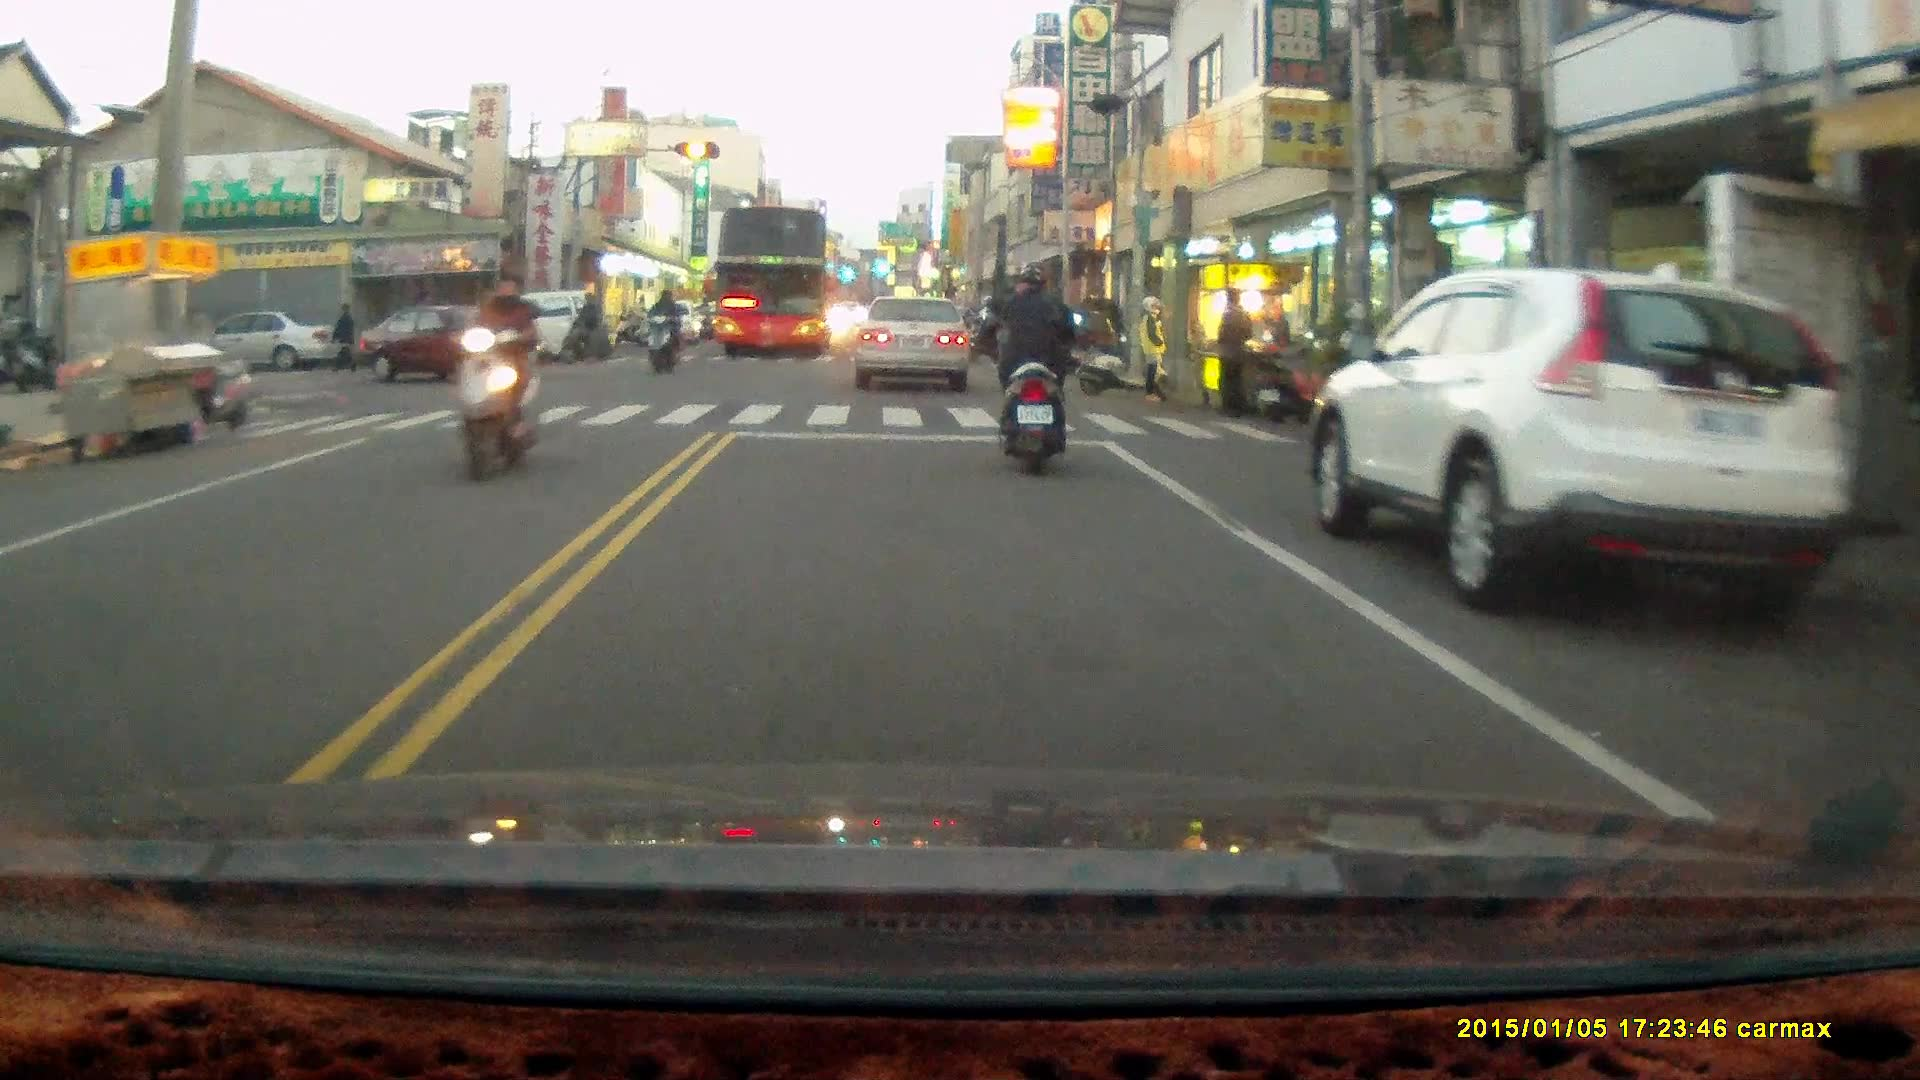pedestrian: (1216, 289, 1254, 425), (1134, 291, 1170, 403), (329, 300, 353, 370)
rider: (435, 263, 547, 479), (980, 258, 1083, 471), (556, 288, 613, 364), (963, 287, 1016, 364), (641, 286, 684, 374)
vehicle: (1308, 264, 1860, 614), (705, 202, 837, 362), (362, 299, 545, 378), (854, 294, 973, 388), (191, 311, 338, 371)
